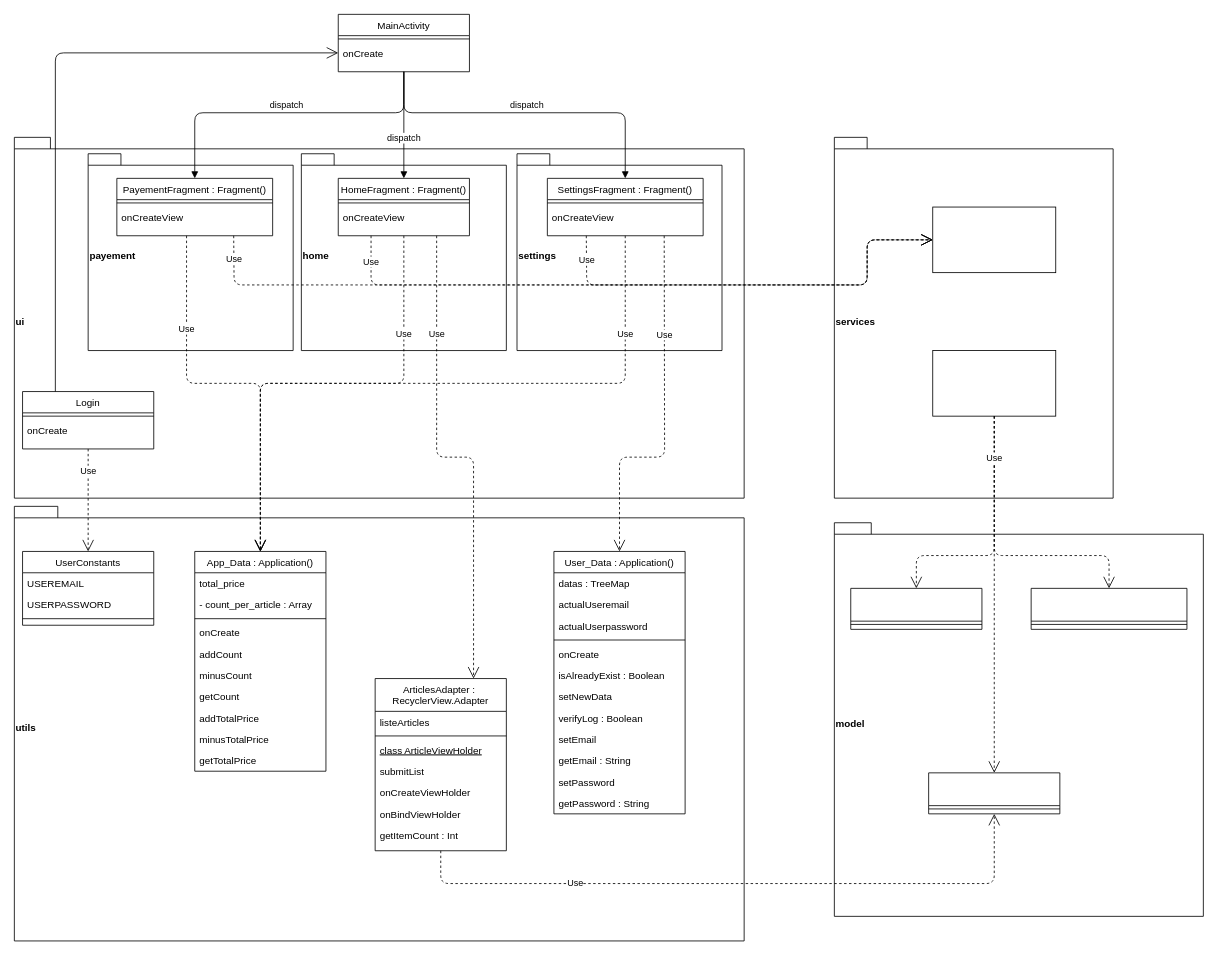
Image size: 1218x955. Some labels were removed from this diagram. The centre of each missing label's shape, as x and y in pixels:
class Payement (username, amount, bic, number): the point at 1108,608
class ServerResponse (response): the point at 916,608
data class Article (article, price): the point at 994,793
Retrofit client: the point at 994,239
«interface» ApiInterface: the point at 994,383
